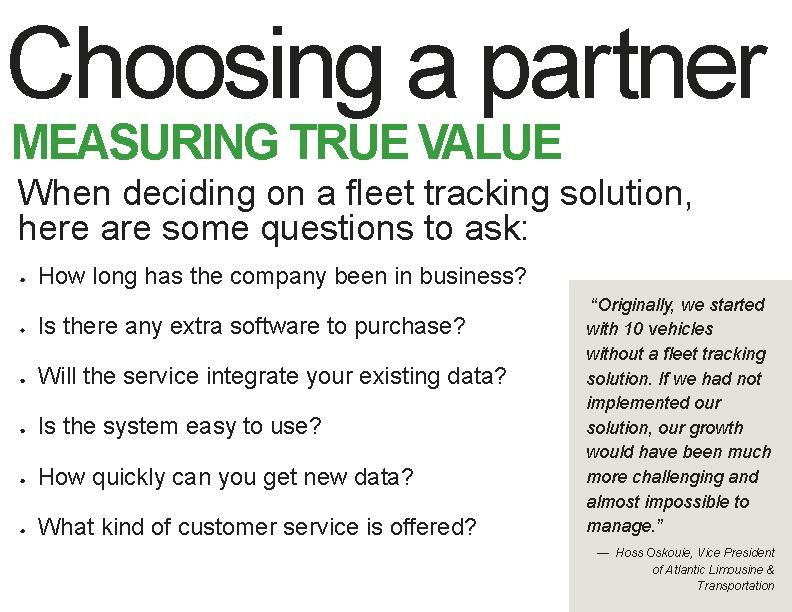paragraph: (12, 168, 727, 583)
subtitle: (9, 112, 577, 176)
title: (5, 11, 775, 119)
